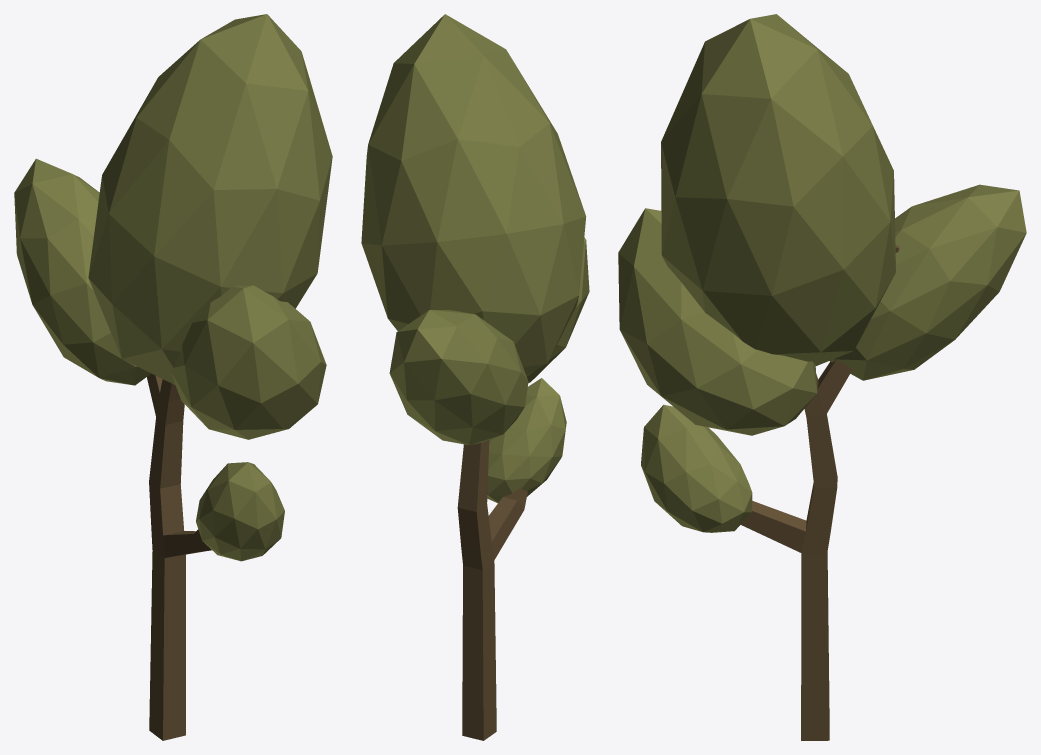
Rendered from Forest_Tree1.fbx.
3 views of the same model, side by side, from view 1: azimuth 30°, elevation 25°; view 2: azimuth 150°, elevation 25°; view 3: azimuth 270°, elevation 25° (orthographic). The views are drawn at different scales.
Visible parts, largest first — view 1: Icosphere; view 2: Icosphere; view 3: Icosphere.
Boxes of the visible parts, x1=… form: Icosphere: x1=14, y1=14, x2=332, y2=740; Icosphere: x1=361, y1=14, x2=589, y2=740; Icosphere: x1=618, y1=14, x2=1026, y2=740.
Bounding box in the file's own units: 383 × 1253 × 617.
